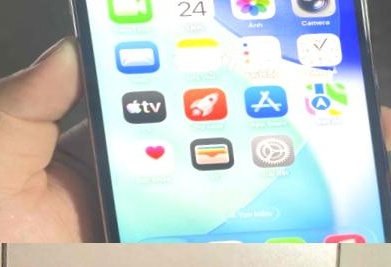scratch: (349, 0, 378, 41)
